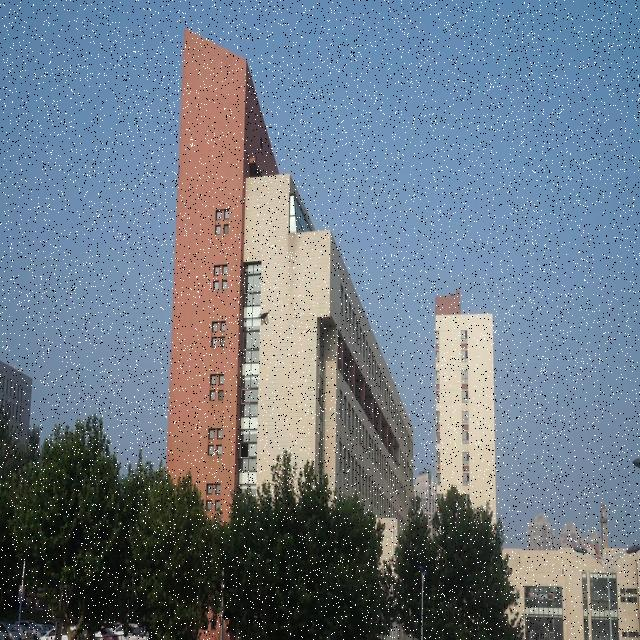UAV: (258, 310, 271, 326)
